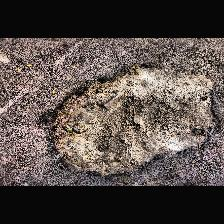pothole: (37, 58, 224, 176)
